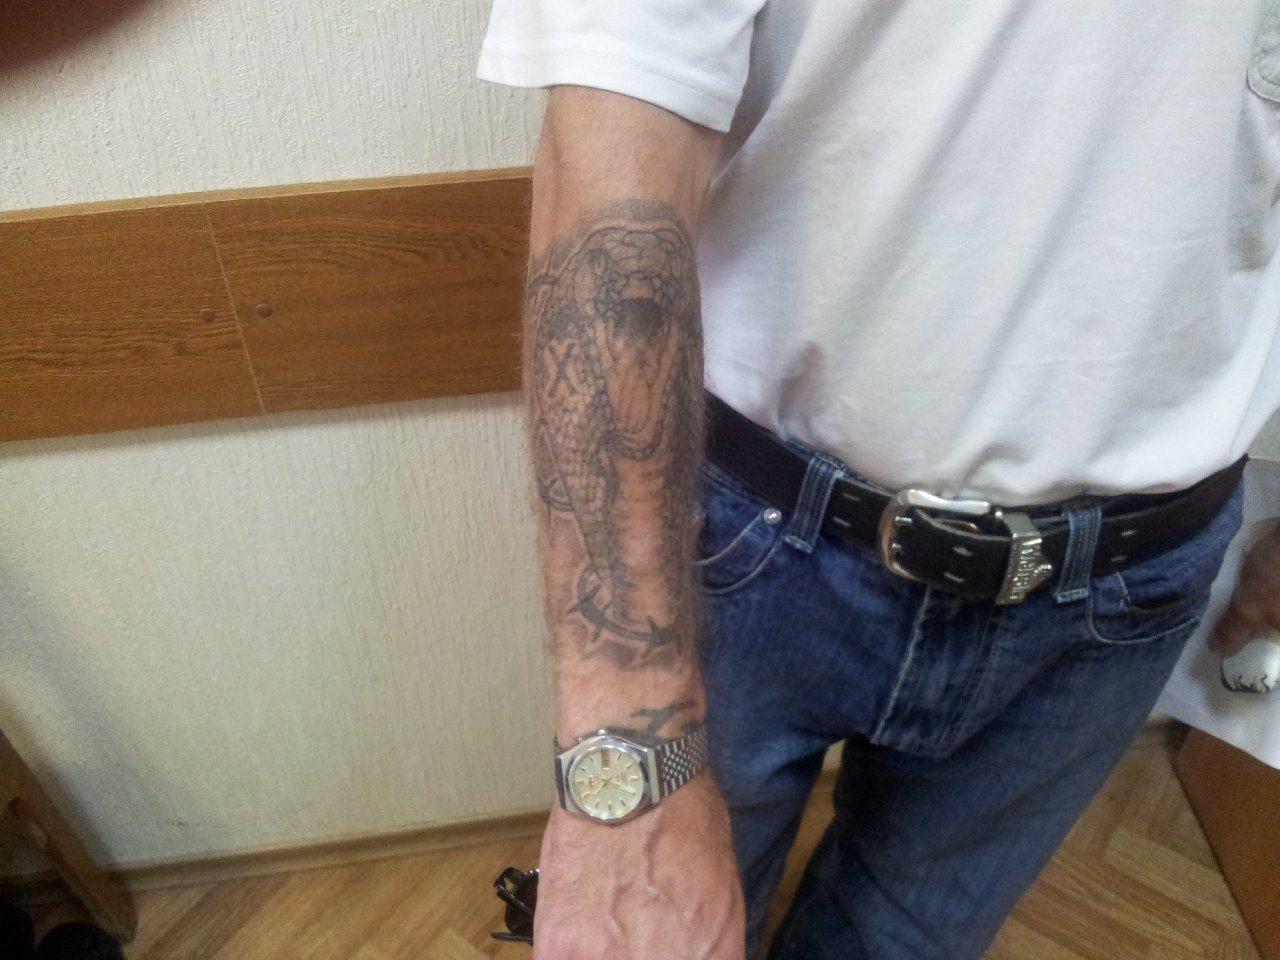tatu7_zmeya: (519, 217, 741, 692)
